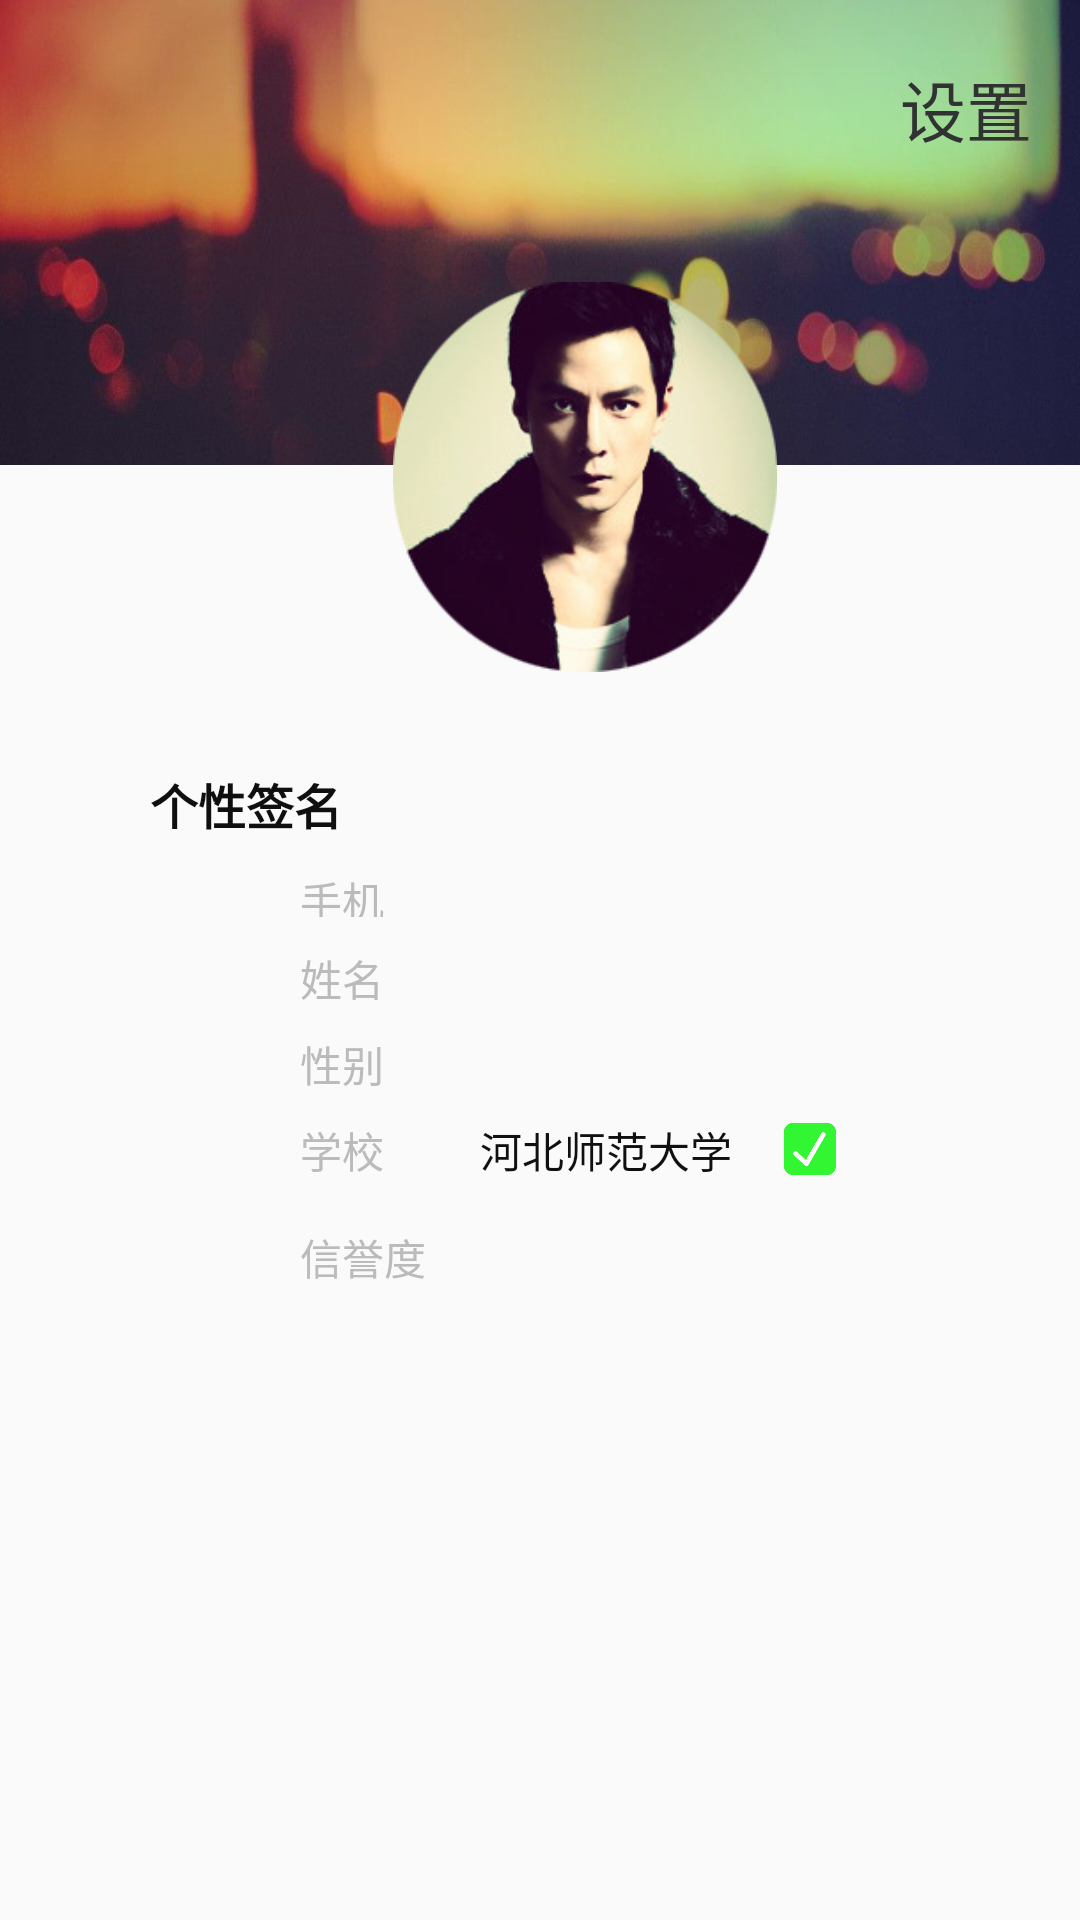

Screen size 1080*1920. Icon name, then its center in pixels as (x,y):
authenok: (810,1149)
